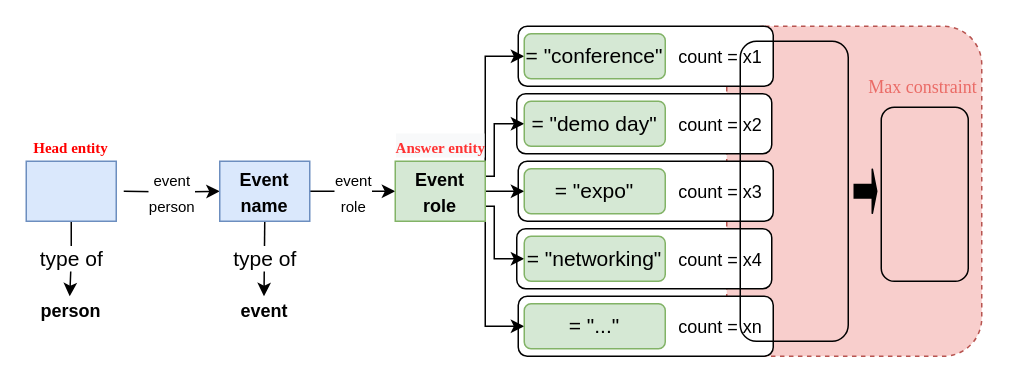
The diagram is 1025 pixels wide and 383 high, and some of its shapes have lost their labels. Here are the shapes that lost their labels. From the top down, the box of each, then its label:
(25, 160, 116, 221): Bill Gates
(739, 40, 848, 341): max = x_max
(880, 106, 968, 281): select the event role with count = x_max
